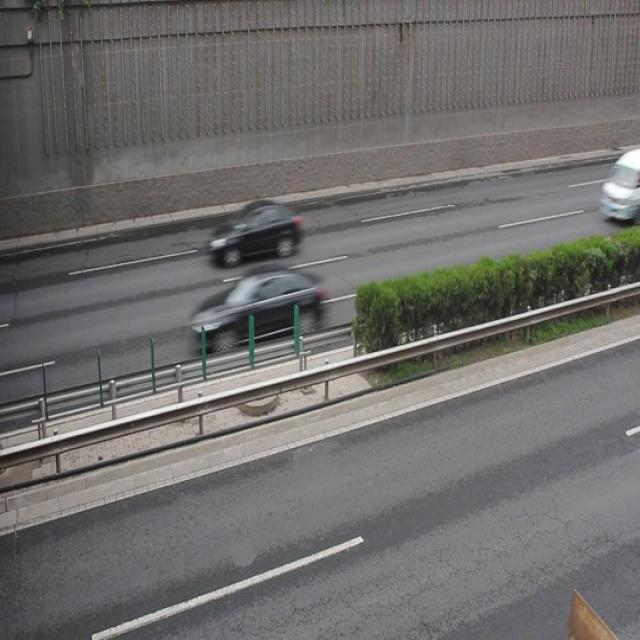car: (188, 262, 331, 354), (209, 197, 303, 265)
truck: (598, 149, 640, 221)
